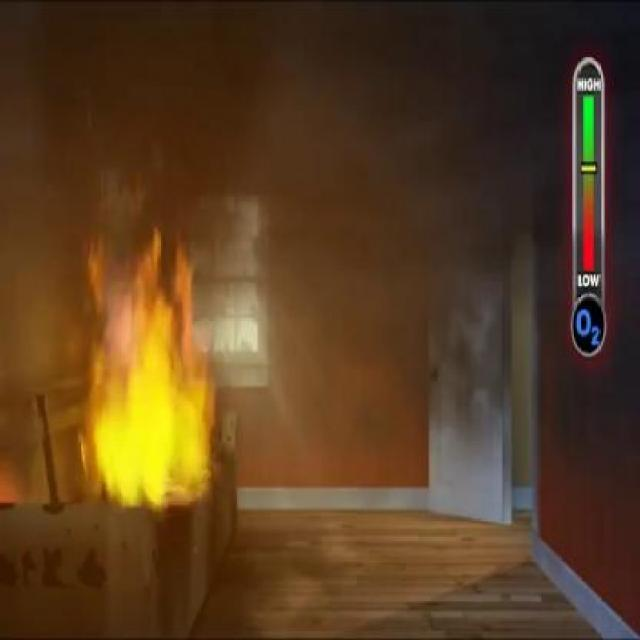fire: (94, 284, 208, 506)
smoke: (178, 86, 346, 402)
